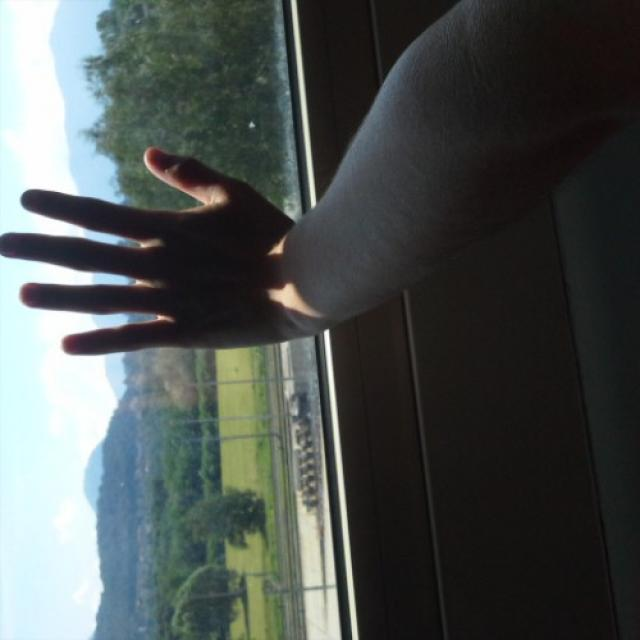paper: (4, 144, 310, 358)
